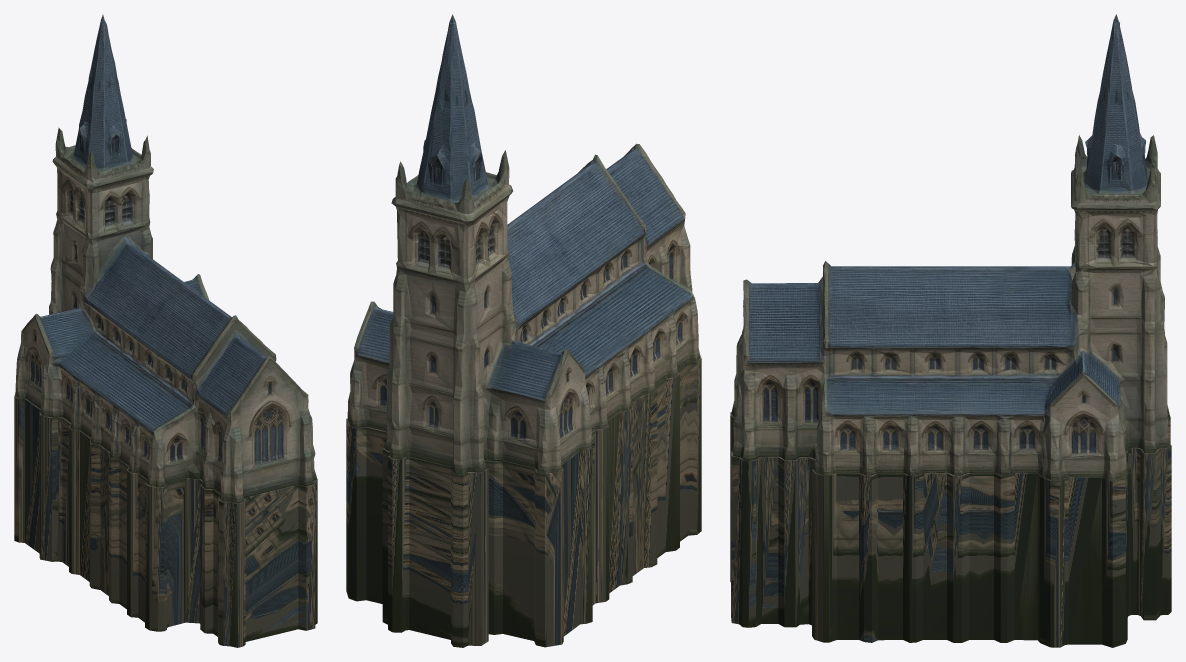
Rendered from church_tower.glb.
3 views of the same model, side by side, from view 1: azimuth 30°, elevation 25°; view 2: azimuth 150°, elevation 25°; view 3: azimuth 270°, elevation 25° (orthographic). The views are drawn at different scales.
Parts seen in each view (by area): view 1: church_tower_export; view 2: church_tower_export; view 3: church_tower_export.
Boxes of the visible parts, x1=… form: church_tower_export: x1=14, y1=14, x2=317, y2=647; church_tower_export: x1=346, y1=14, x2=701, y2=647; church_tower_export: x1=730, y1=14, x2=1171, y2=647.
Bounding box in the file's own units: 24 × 64.15 × 44.
Materials: 2 (2 with a texture image).
